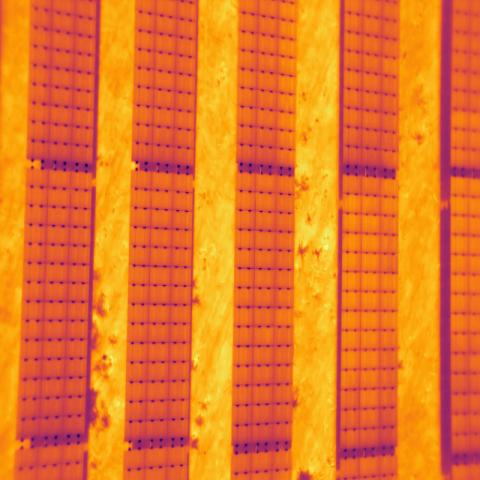fault: (382, 56, 399, 75)
